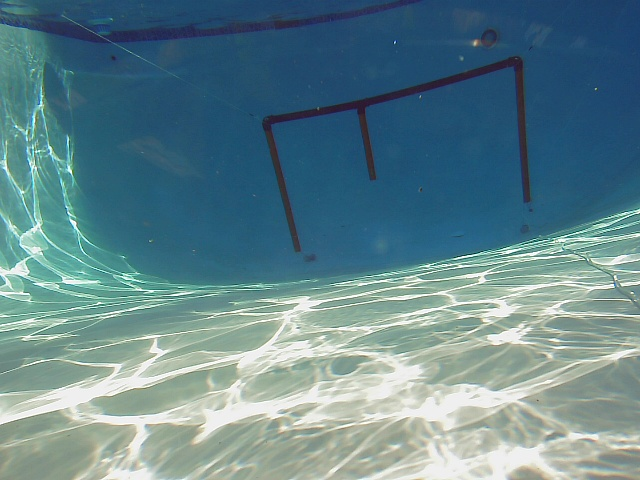Gate: (264, 125, 304, 257), (508, 67, 534, 208), (355, 108, 378, 184)
